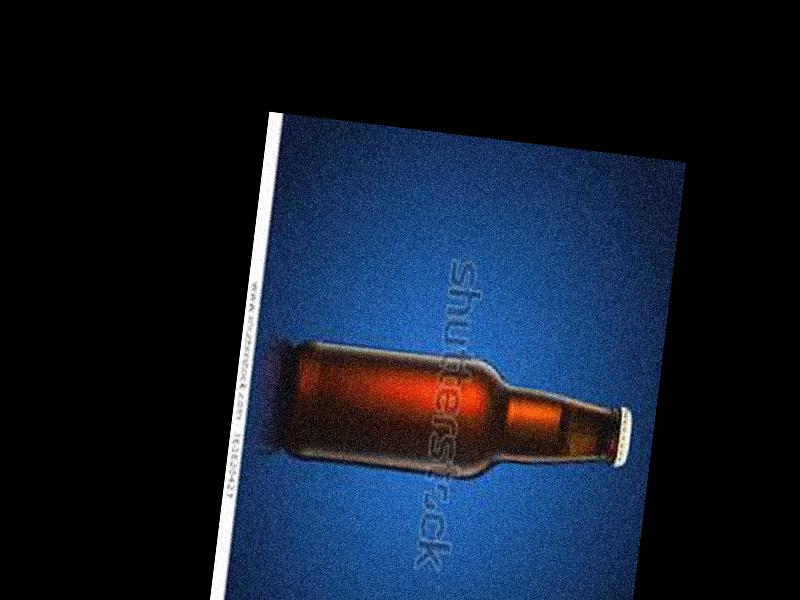Beer: (280, 337, 639, 499)
